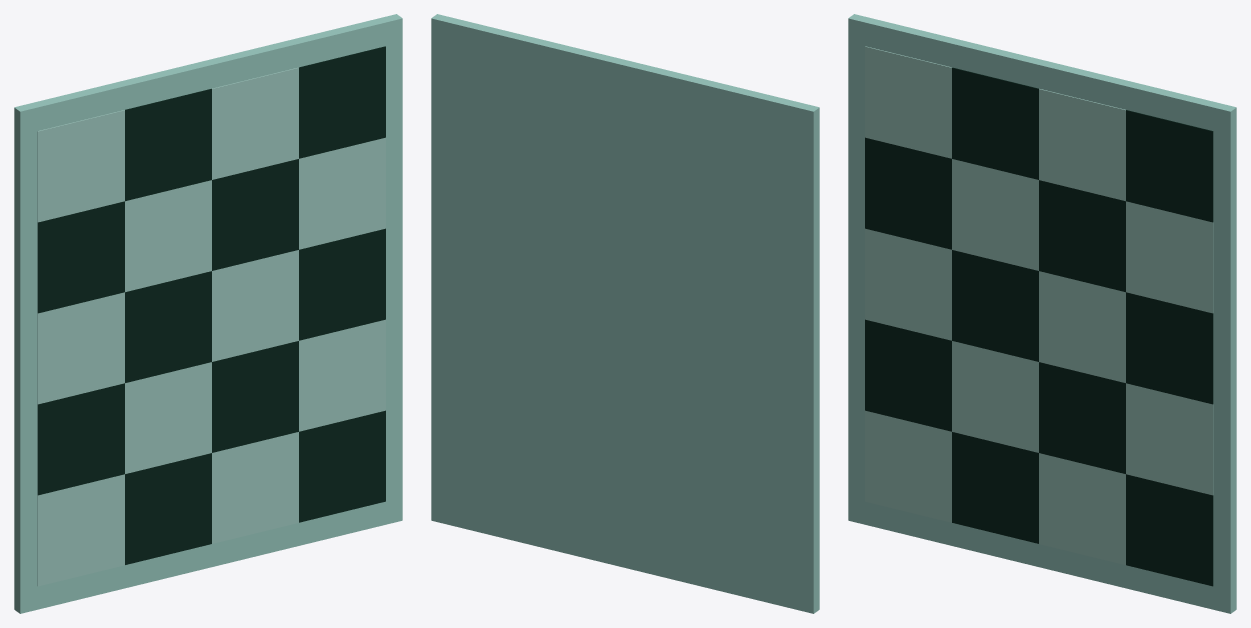
The model's file is local.glb.
3 renders of one model, left to right at view 1: azimuth 30°, elevation 25°; view 2: azimuth 150°, elevation 25°; view 3: azimuth 330°, elevation 25°, orthographic.
Visible parts, largest first — view 1: left_calibration_tag; view 2: left_calibration_tag; view 3: left_calibration_tag.
Part boxes in pixels (x1,y1,x2,y2): left_calibration_tag: (14,14,402,613); left_calibration_tag: (431,14,819,613); left_calibration_tag: (848,14,1236,613).
Bounding box in the file's own units: 0.055 × 0.069 × 0.00162.
